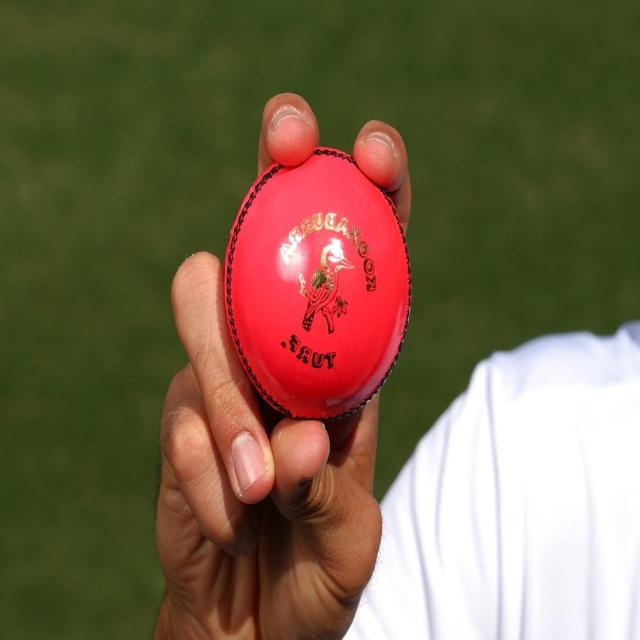ball: (222, 147, 413, 424)
